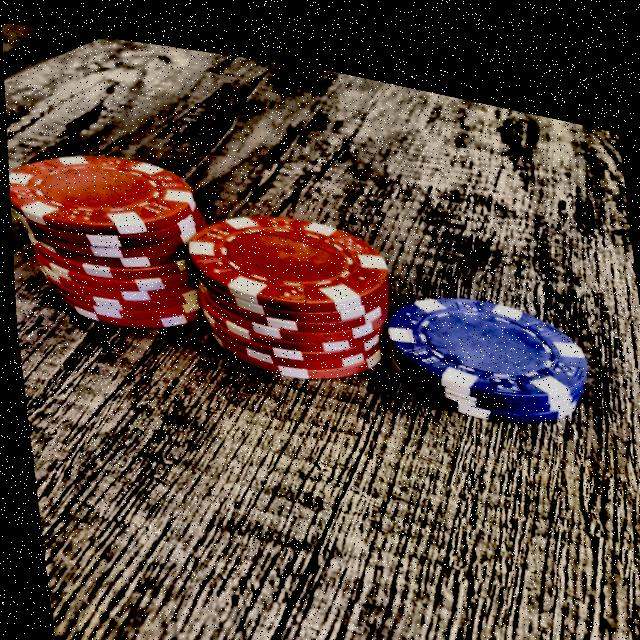Chip: (179, 177, 405, 391), (5, 125, 219, 348), (377, 254, 594, 425)
